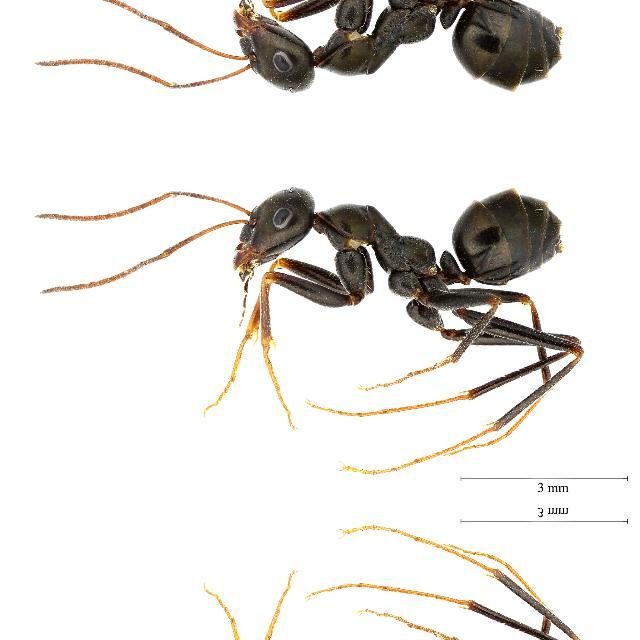Cataglyphis: (102, 164, 626, 430), (101, 0, 624, 112), (101, 568, 624, 640)
